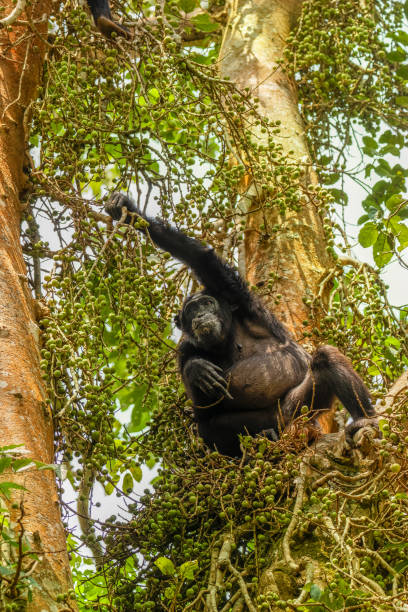chimpanzee: (147, 285, 237, 360)
